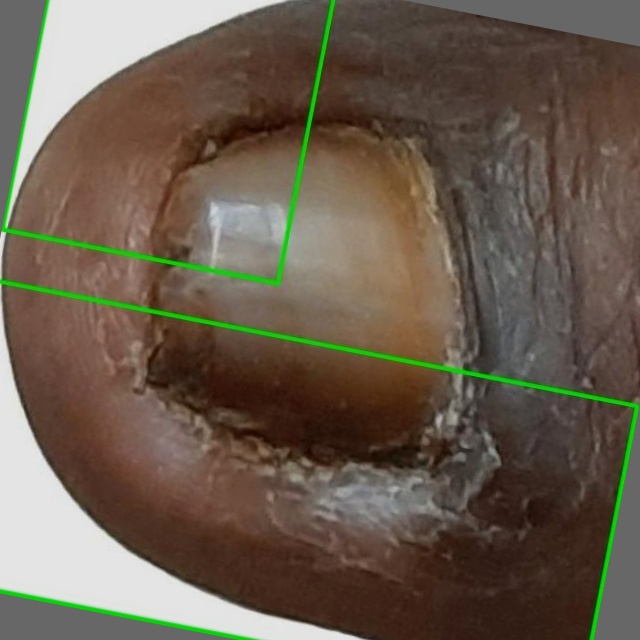Seborrheic Dermatitis: (0, 282, 638, 639), (2, 0, 333, 283)
